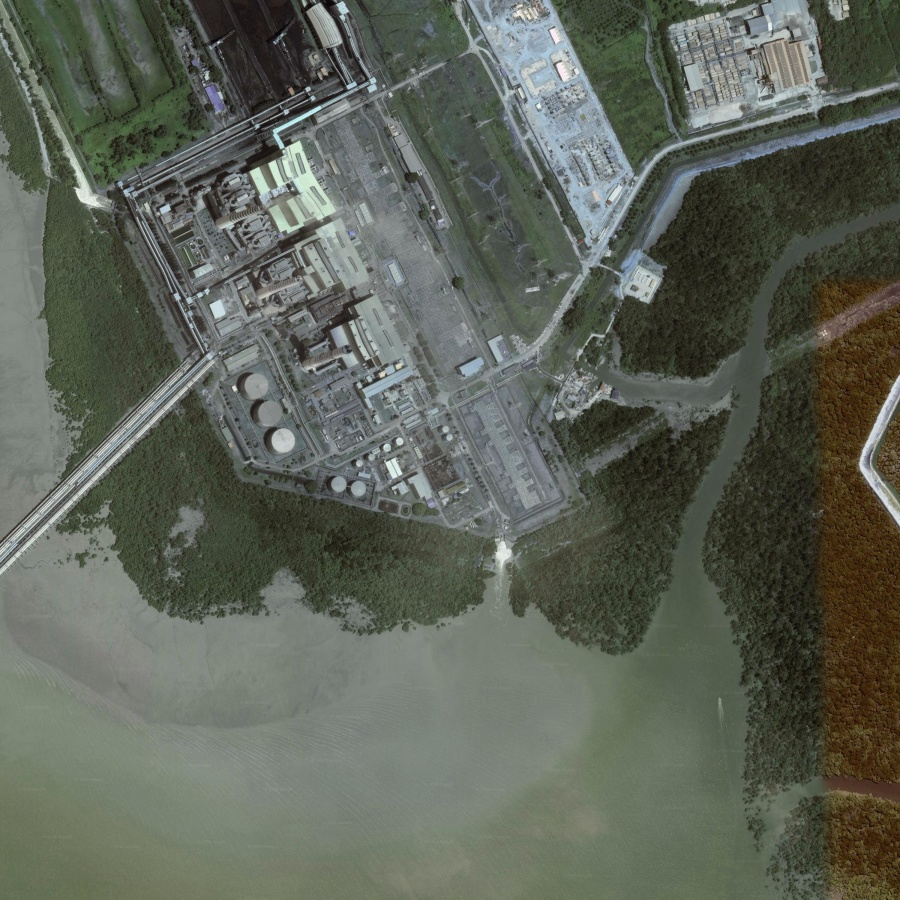PowerPlant: (140, 155, 505, 517)
